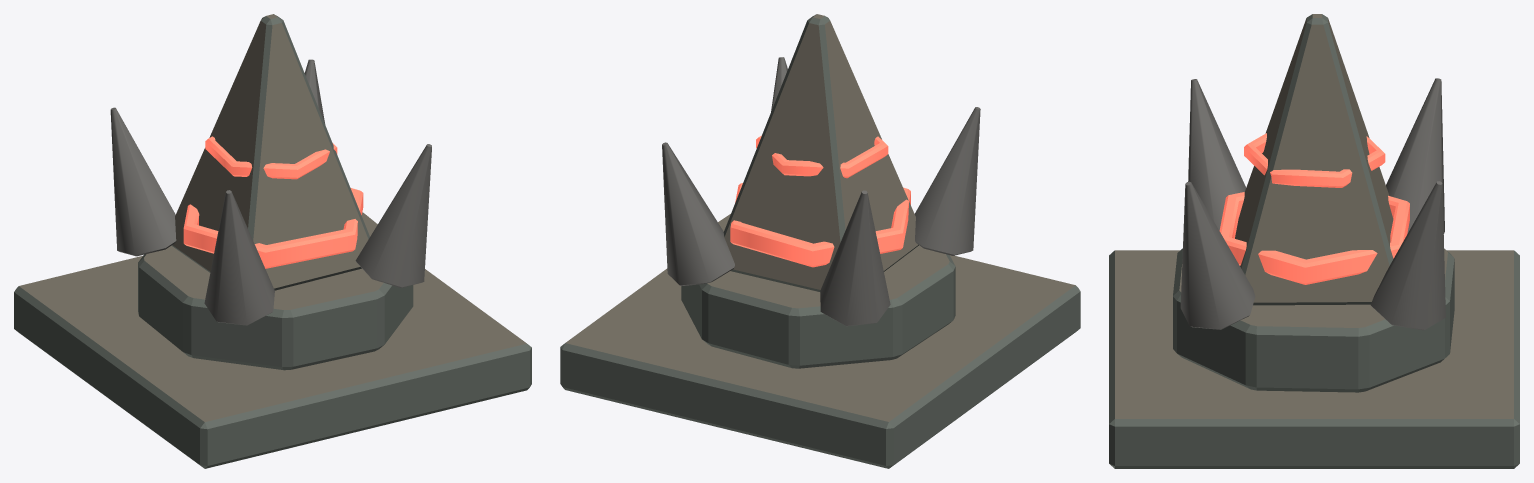
Rendered from R4X_DamageBooster_LOD1.fbx.
3 renders of one model, left to right at view 1: azimuth 30°, elevation 25°; view 2: azimuth 150°, elevation 25°; view 3: azimuth 270°, elevation 25°, orthographic. The views are drawn at different scales.
Parts seen in each view (by area): view 1: R4X_DamageBooster_LOD1; view 2: R4X_DamageBooster_LOD1; view 3: R4X_DamageBooster_LOD1.
Boxes of the visible parts, <box> form: R4X_DamageBooster_LOD1: <box>14,14,531,468</box>; R4X_DamageBooster_LOD1: <box>560,14,1080,468</box>; R4X_DamageBooster_LOD1: <box>1109,14,1519,468</box>.
Bounding box in the file's own units: 0.52 × 0.515 × 0.52.
